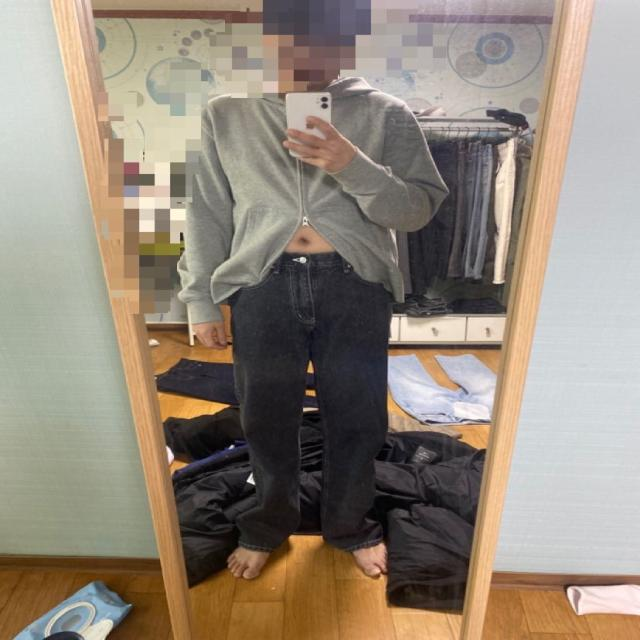cardigan: (172, 81, 450, 323)
denimpants: (236, 252, 389, 551)
